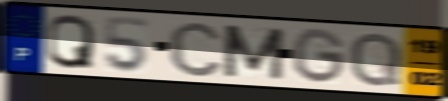5: (104, 14, 152, 76)
C: (167, 19, 225, 79)
G: (291, 26, 348, 86)
M: (221, 22, 287, 81)
Q: (347, 30, 404, 89), (44, 12, 96, 71)
